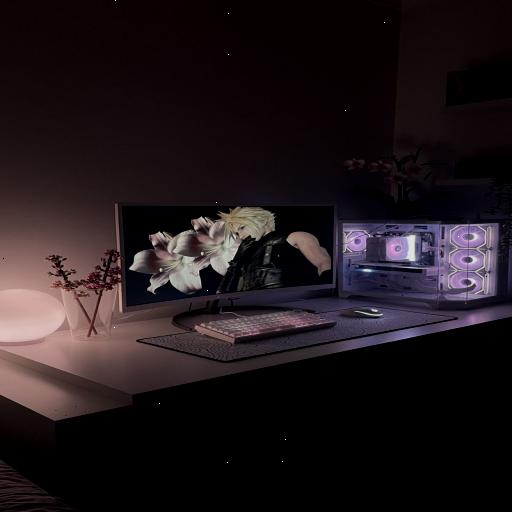computer case: (338, 219, 508, 309)
monitor: (115, 204, 340, 312)
